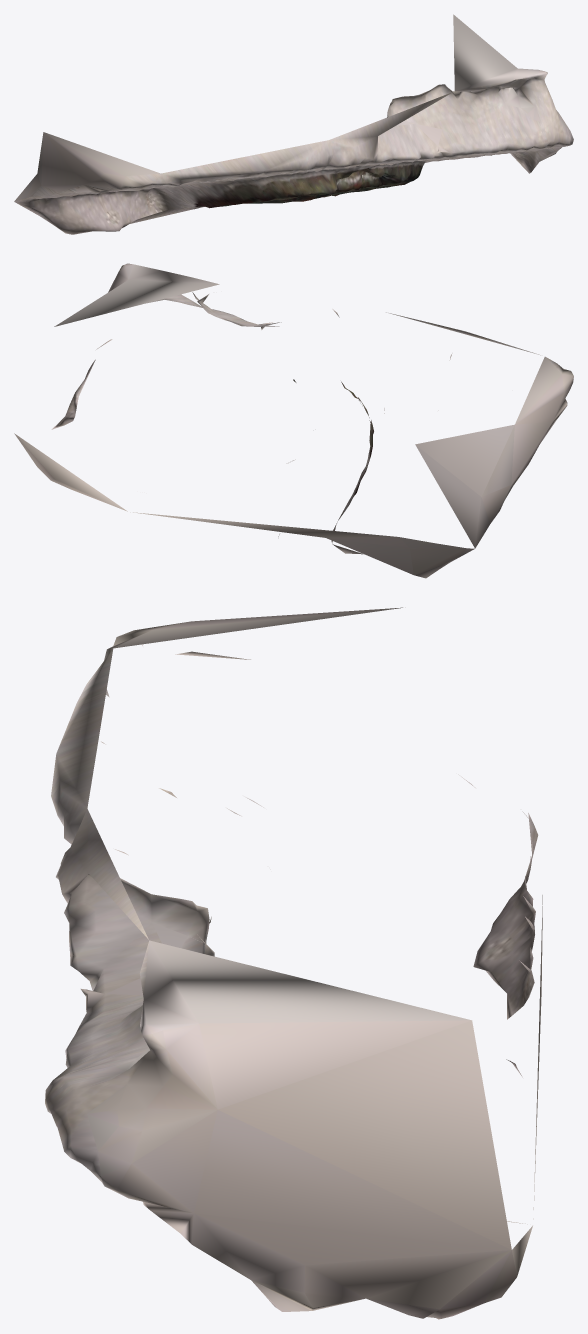
File: constans.glb
3 renders of one model, top to bottom at view 1: azimuth 30°, elevation 25°; view 2: azimuth 150°, elevation 25°; view 3: azimuth 270°, elevation 25°, orthographic. The views are drawn at different scales.
Size of the model in its own units: 1000 by 308 by 470.
1 material, 1 textured.
